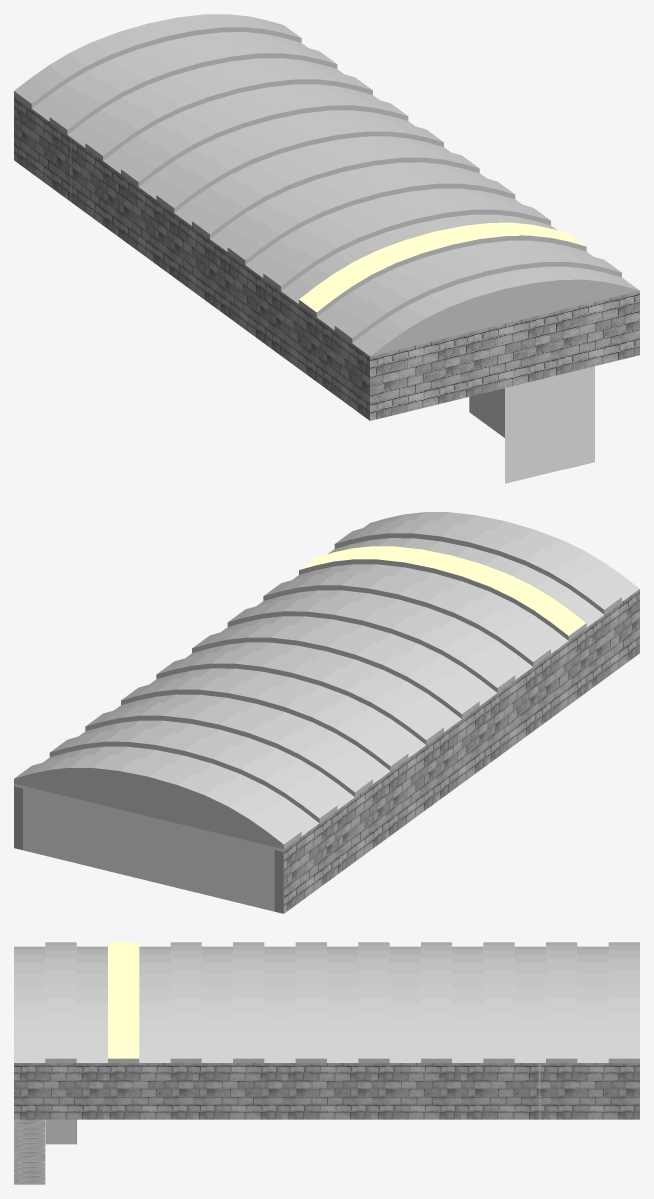
Rendered from bodega.glb.
3 renders of one model, top to bottom at view 1: azimuth 30°, elevation 25°; view 2: azimuth 150°, elevation 25°; view 3: azimuth 270°, elevation 25°, orthographic. The views are drawn at different scales.
Parts seen in each view (by area): view 1: Cube.013; view 2: Cube.013; view 3: Cube.013.
Part boxes in pixels (x1,y1,x2,y2): Cube.013: (14, 14, 639, 483); Cube.013: (14, 512, 639, 913); Cube.013: (14, 942, 639, 1184).
Bounding box in the file's own units: 21 × 14.89 × 48.01.
11 materials, 3 textured.
